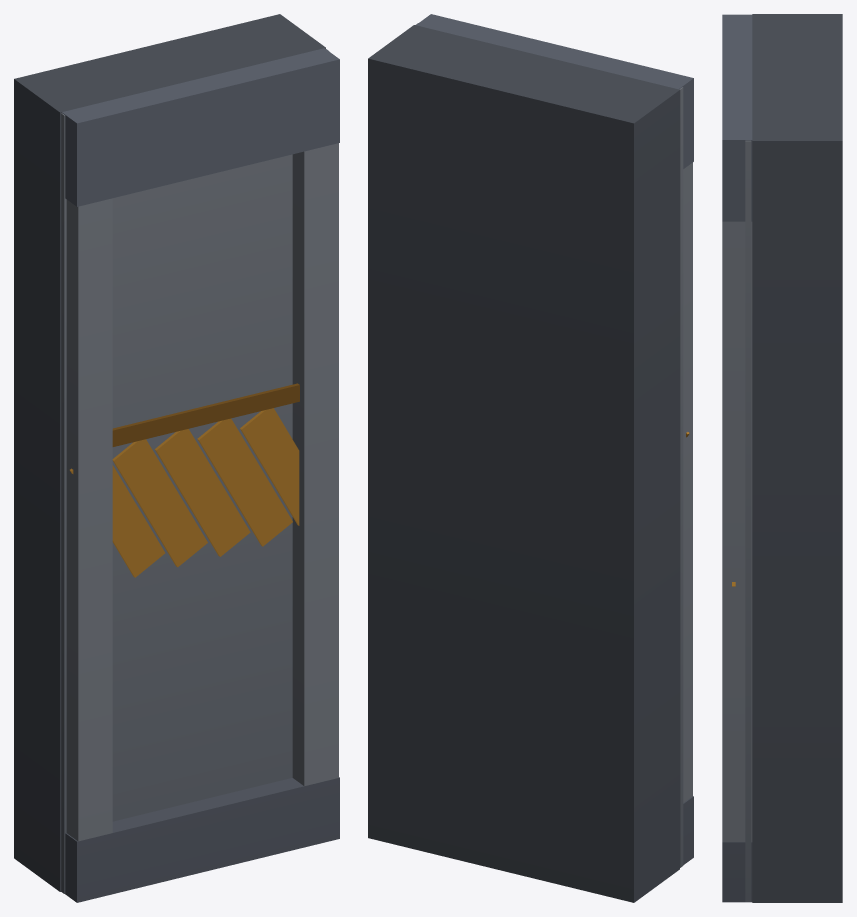
Rendered from hazard_stripe_panel.glb.
3 views of the same model, side by side, from view 1: azimuth 30°, elevation 25°; view 2: azimuth 150°, elevation 25°; view 3: azimuth 270°, elevation 25° (orthographic). The views are drawn at different scales.
Visible parts, largest first — view 1: hazard_stripe_panel; view 2: hazard_stripe_panel; view 3: hazard_stripe_panel.
Part boxes in pixels (x1=…): hazard_stripe_panel: x1=14, y1=14, x2=339, y2=902; hazard_stripe_panel: x1=368, y1=14, x2=693, y2=902; hazard_stripe_panel: x1=722, y1=14, x2=842, y2=902.
Size of the model in its own units: 1 by 2.8 by 0.3999.
